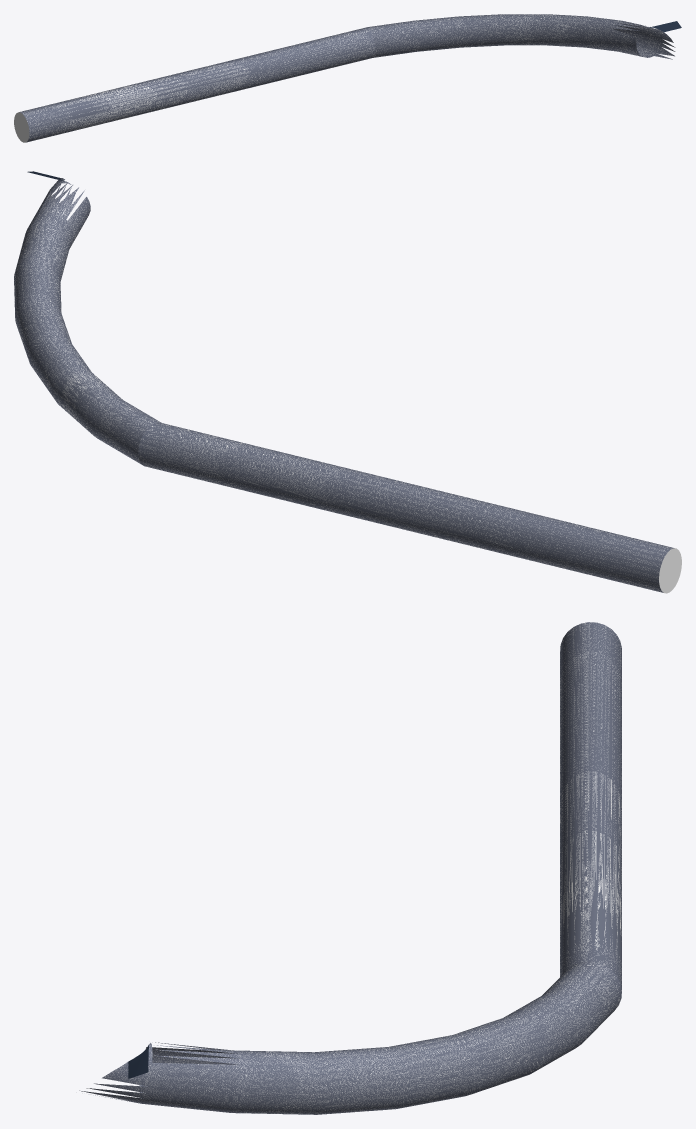
3 views of the same model, one above another, from view 1: azimuth 30°, elevation 25°; view 2: azimuth 150°, elevation 25°; view 3: azimuth 270°, elevation 25° (orthographic). The views are drawn at different scales.
Bounding box in the file's own units: 0.4579 × 0.0554 × 0.1995.
